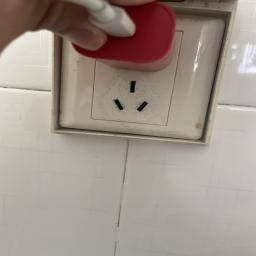outlet: (47, 0, 228, 155)
